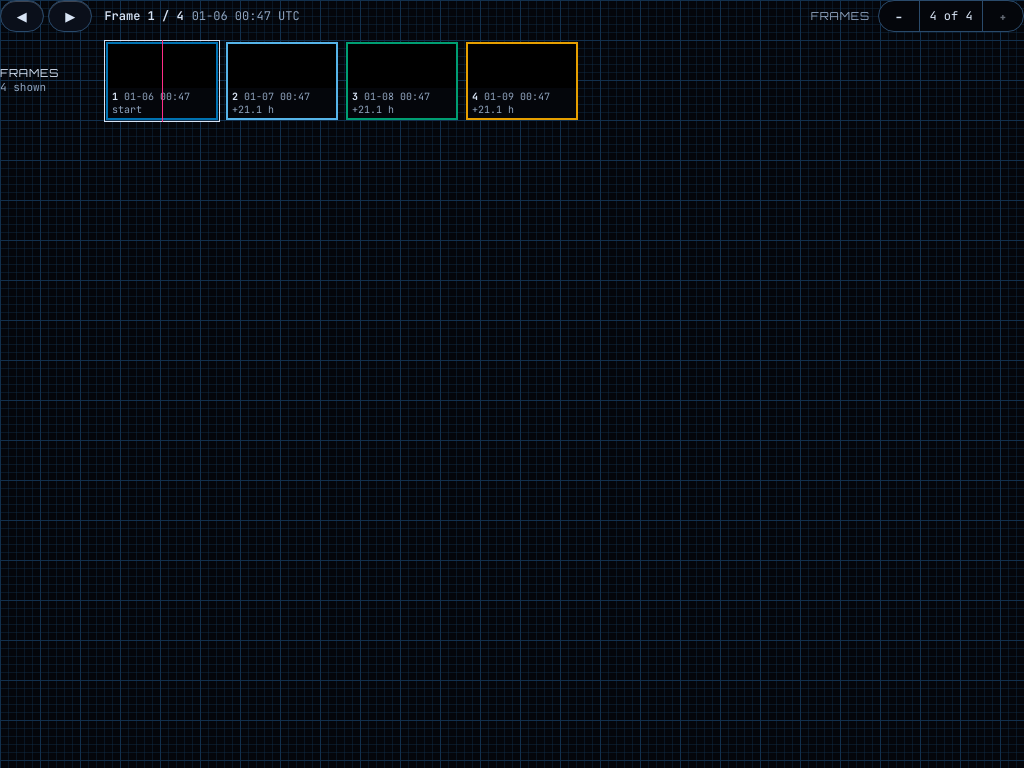
it: Timeline Blink range and speed › "+" at the limit › says the archive is not responding when IRSA is down
Click the button named "Show more frames".
click(1003, 16)  # box [983, 1, 1023, 31]
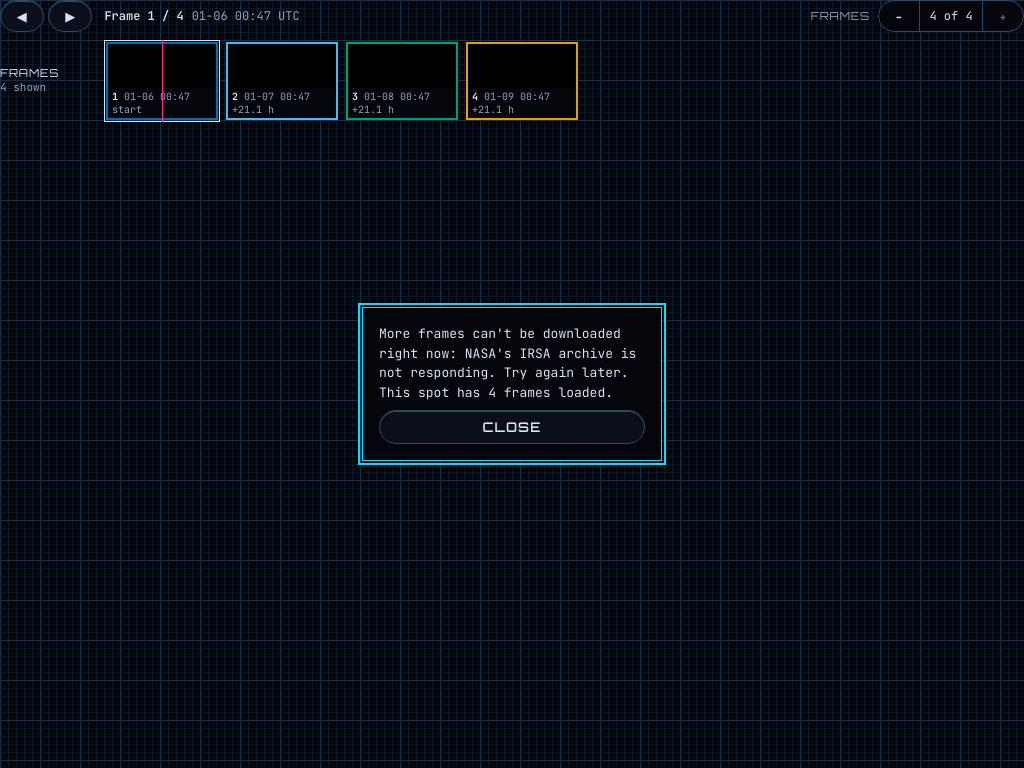
Now the dialog named "No more frames" is shown, box [362, 307, 662, 461]
